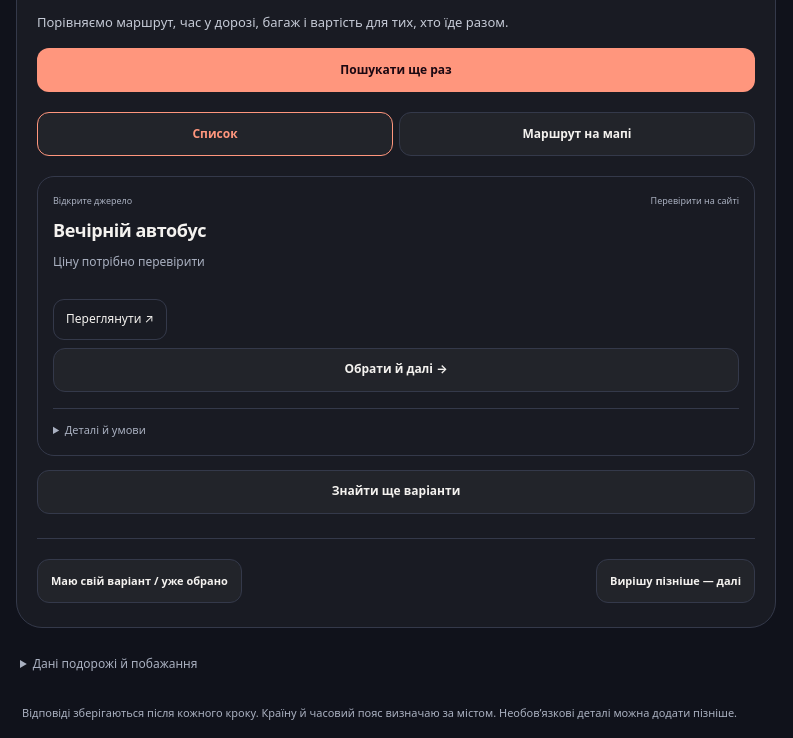
Test: guided travel journey › shows sourced offers with unknown prices and advances to lodging after an owner choice
(page scrolled)
expect the text "Ціну потрібно перевірити" is shown: met, box [53, 253, 205, 270]
Click the button "Обрати й далі →": [396, 370] box [53, 348, 739, 392]
(page scrolled)
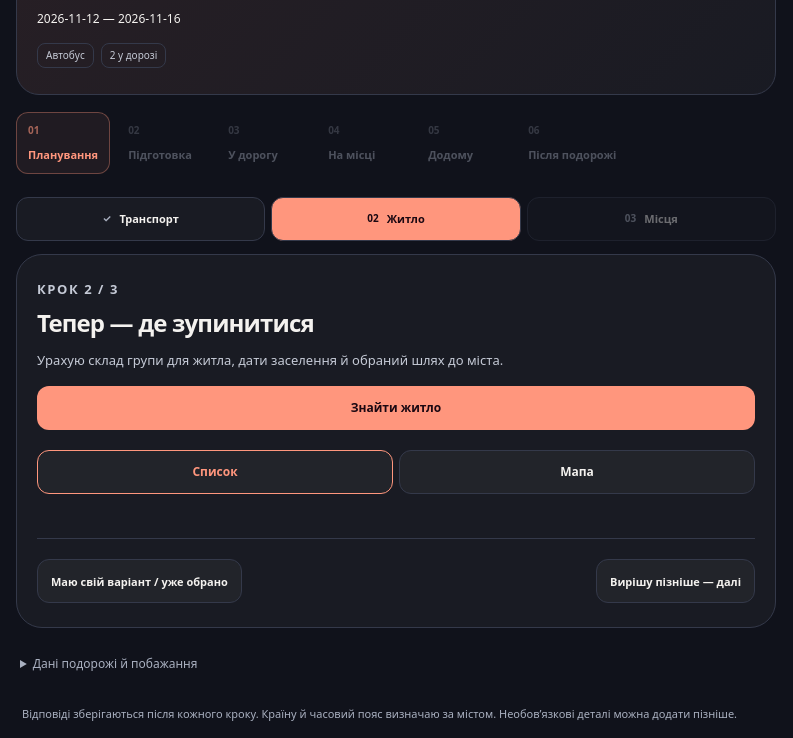
expect the heading "Тепер — де зупинитися" is shown: met, box [37, 306, 314, 339]
